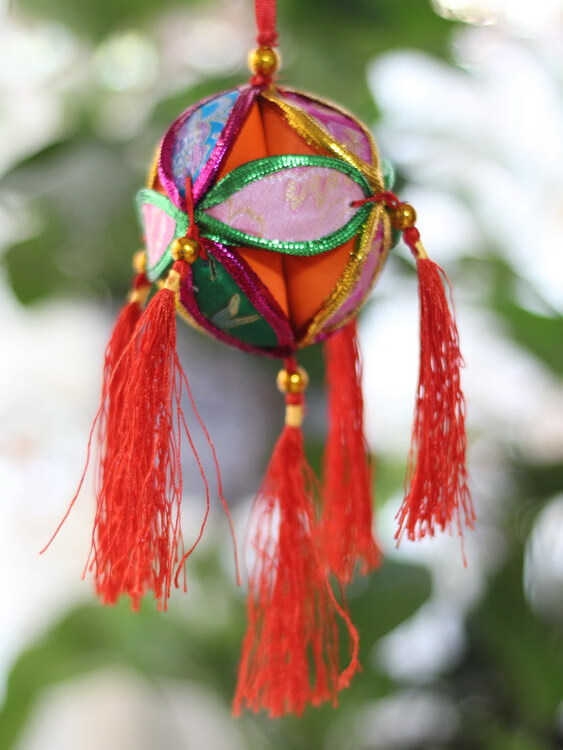xiuqiu: (139, 87, 395, 350)
